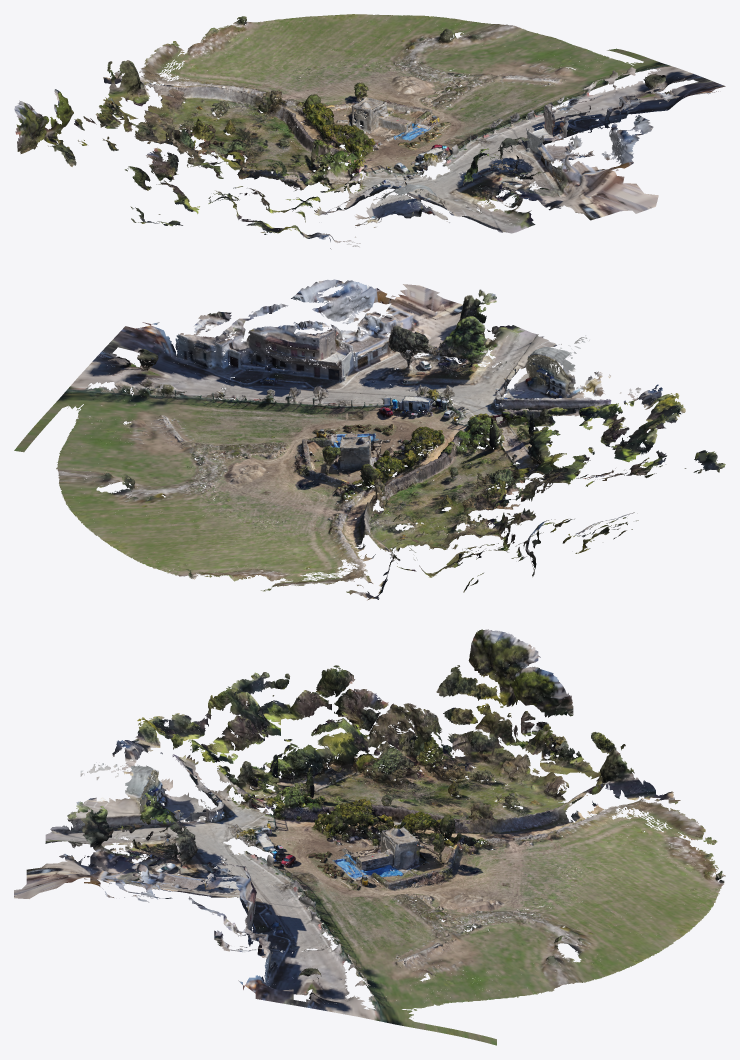
The model's file is san-pietro-mandurino.glb.
3 views of the same model, one above another, from view 1: azimuth 30°, elevation 25°; view 2: azimuth 150°, elevation 25°; view 3: azimuth 270°, elevation 25° (orthographic). The views are drawn at different scales.
Parts seen in each view (by area): view 1: Node; view 2: Node; view 3: Node.
Boxes of the visible parts, x1,y1,x2,y2 form: Node: (14,14,725,249); Node: (14,279,725,600); Node: (14,629,725,1045).
Size of the model in its own units: 161 by 21.8 by 147.
Materials: 53 (53 with a texture image).
